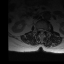CCS_normal: (41, 26, 42, 35)
LFS_normal: (44, 27, 46, 33)
LLS_normal: (42, 27, 44, 33)
RFS_stenosis: (37, 26, 39, 31)
RLS_normal: (39, 26, 41, 33)
